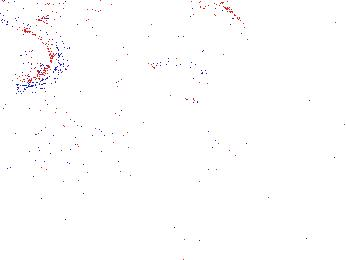moon jellyfish: (180, 3, 251, 90), (1, 18, 64, 89), (206, 51, 266, 110)
